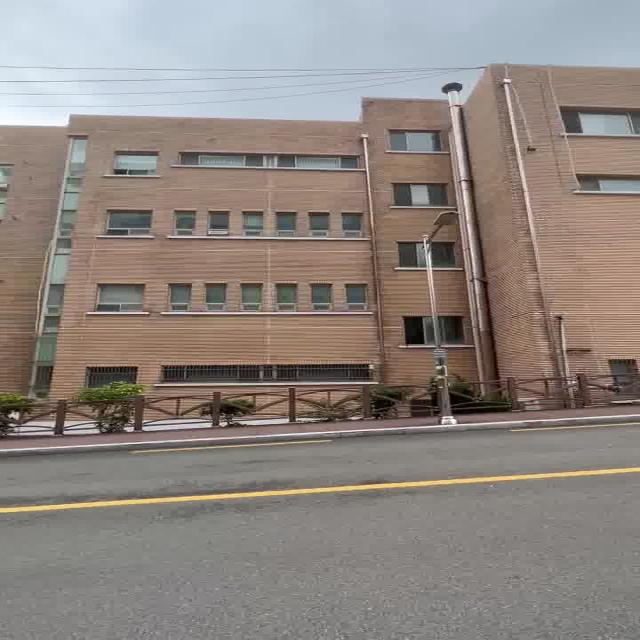building: (5, 77, 640, 378)
